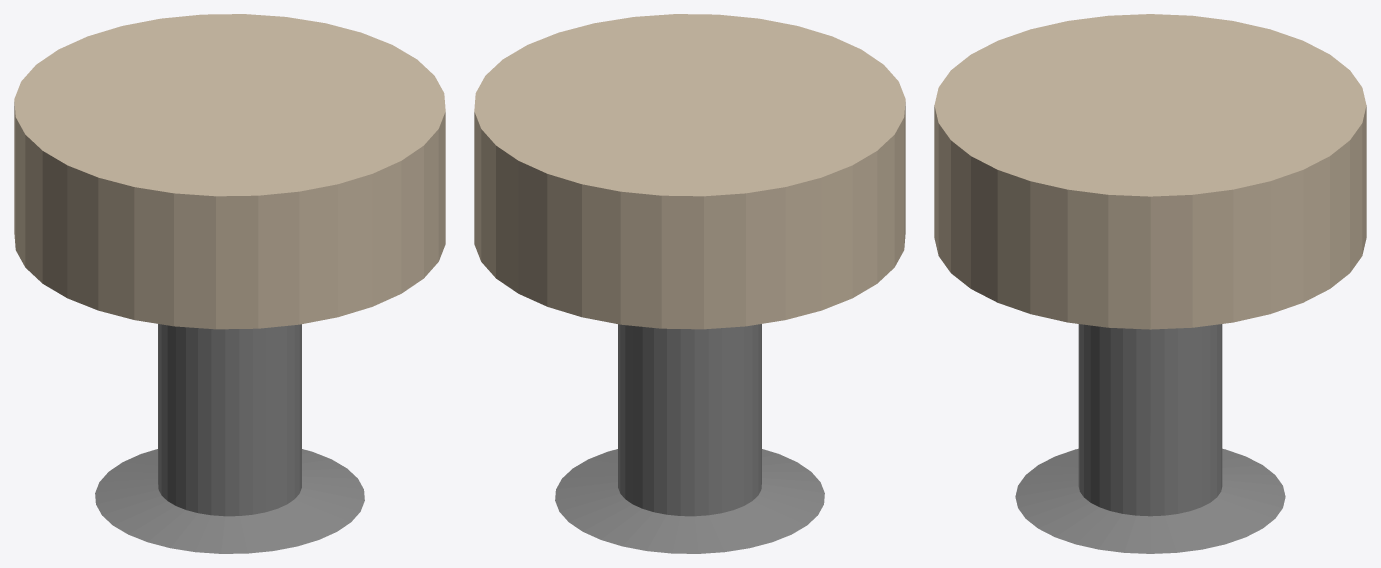
Rendered from tischlampe2.fbx.
The picture shows the model from 3 angles, left to right: view 1: azimuth 30°, elevation 25°; view 2: azimuth 150°, elevation 25°; view 3: azimuth 270°, elevation 25°; orthographic projection.
Parts seen in each view (by area): view 1: Cylinder; view 2: Cylinder; view 3: Cylinder.
Boxes of the visible parts, x1,y1,x2,y2 form: Cylinder: [14, 14, 445, 553]; Cylinder: [474, 14, 905, 553]; Cylinder: [934, 14, 1366, 553].
Bounding box in the file's own units: 50 × 50 × 50.
